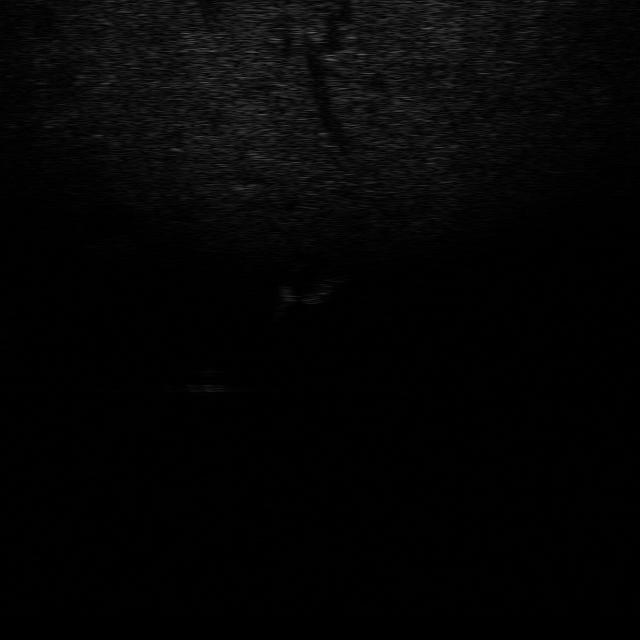ball: (182, 367, 236, 395)
human body: (270, 270, 354, 317)
